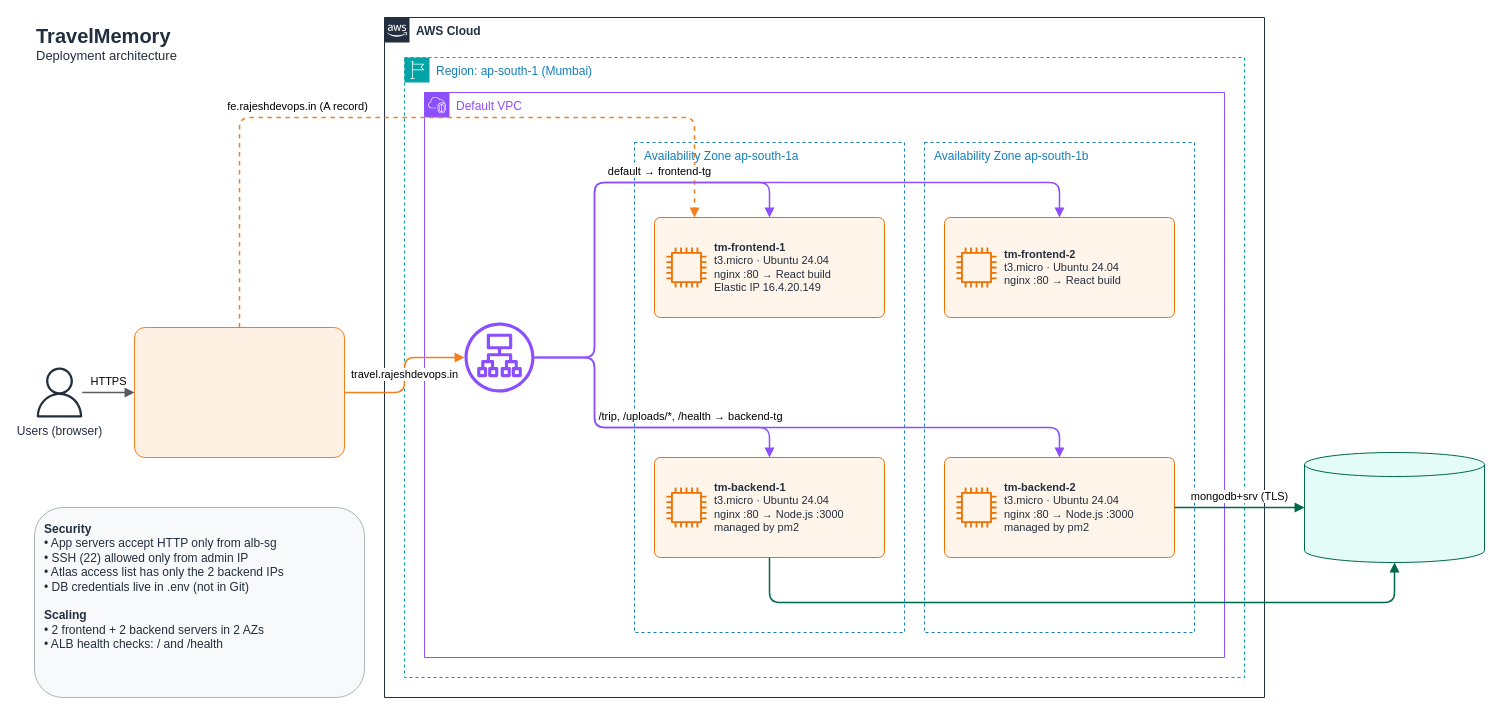
Some shapes in this 1502 by 715 pixel diagram are drawn without their labels. Here are the shapes that lost their labels. From the top down, the centre of each, then its label:
At [499,357]: "Application Load Balancer tm-alb · alb-sg · HTTP :80".
At [239,392]: "Cloudflare DNS · Proxy · SSL (Flexible) CNAME travel → ALB A fe → 16.4.20.149".
At [1394,507]: "MongoDB Atlas M0 cluster · AWS Mumbai access list: backend IPs".
